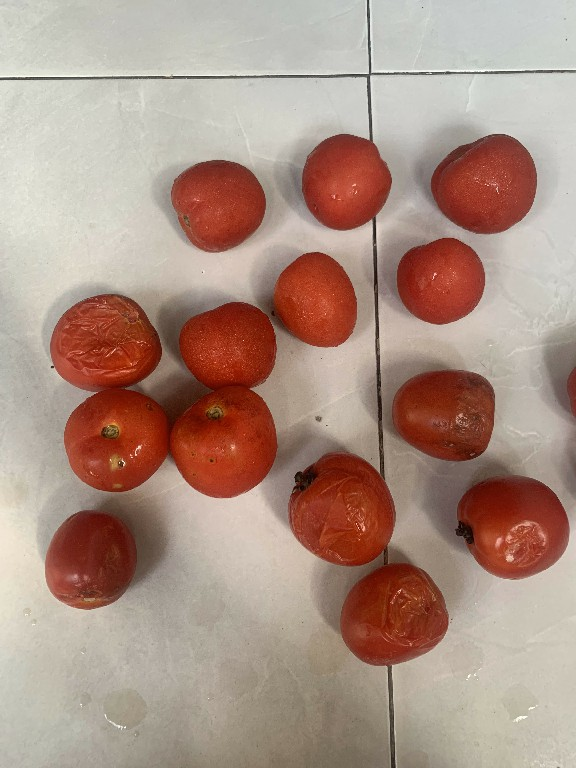NG: (279, 439, 395, 574), (447, 472, 572, 591), (337, 561, 457, 678), (162, 386, 280, 499), (43, 500, 152, 620), (51, 288, 168, 392), (54, 388, 167, 491), (388, 362, 500, 462)
OK: (419, 128, 554, 236), (172, 295, 296, 394), (387, 234, 498, 335), (158, 150, 260, 254), (274, 251, 365, 362), (299, 132, 392, 237)
